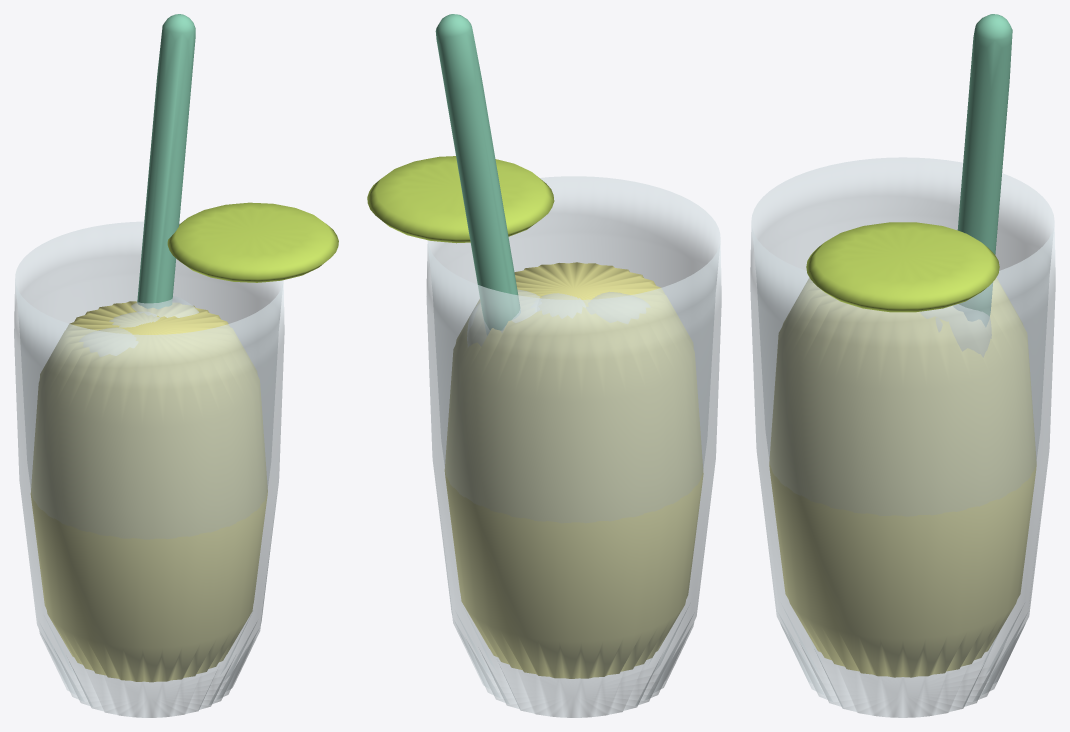
File: comida_limonada.glb
The picture shows the model from 3 angles, left to right: view 1: azimuth 30°, elevation 25°; view 2: azimuth 150°, elevation 25°; view 3: azimuth 270°, elevation 25°; orthographic projection. The views are drawn at different scales.
Visible parts, largest first — view 1: vaso.003, bebida.003, rodaja limón.001, pitillo.003, hielo 0.002, hielo 2.002, hielo 1.002; view 2: vaso.003, bebida.003, pitillo.003, rodaja limón.001, hielo 0.002, hielo 2.002, hielo 1.002; view 3: vaso.003, bebida.003, rodaja limón.001, pitillo.003, hielo 2.002.
Part boxes in pixels (bbox=[...]): vaso.003: bbox=[14, 221, 284, 717]; bebida.003: bbox=[30, 301, 267, 682]; rodaja limón.001: bbox=[167, 202, 338, 282]; pitillo.003: bbox=[137, 14, 195, 309]; hielo 0.002: bbox=[79, 327, 137, 356]; hielo 2.002: bbox=[131, 296, 198, 317]; hielo 1.002: bbox=[109, 311, 159, 327]; vaso.003: bbox=[426, 176, 721, 717]; bebida.003: bbox=[444, 262, 703, 678]; pitillo.003: bbox=[435, 14, 520, 334]; rodaja limón.001: bbox=[367, 156, 554, 243]; hielo 0.002: bbox=[586, 292, 649, 323]; hielo 2.002: bbox=[467, 289, 539, 346]; hielo 1.002: bbox=[537, 293, 585, 318]; vaso.003: bbox=[750, 157, 1055, 717]; bebida.003: bbox=[769, 278, 1036, 677]; rodaja limón.001: bbox=[806, 222, 999, 312]; pitillo.003: bbox=[954, 14, 1012, 326]; hielo 2.002: bbox=[920, 304, 991, 356].
Bounding box in the file's own units: 0.1705 × 0.3497 × 0.1354.
